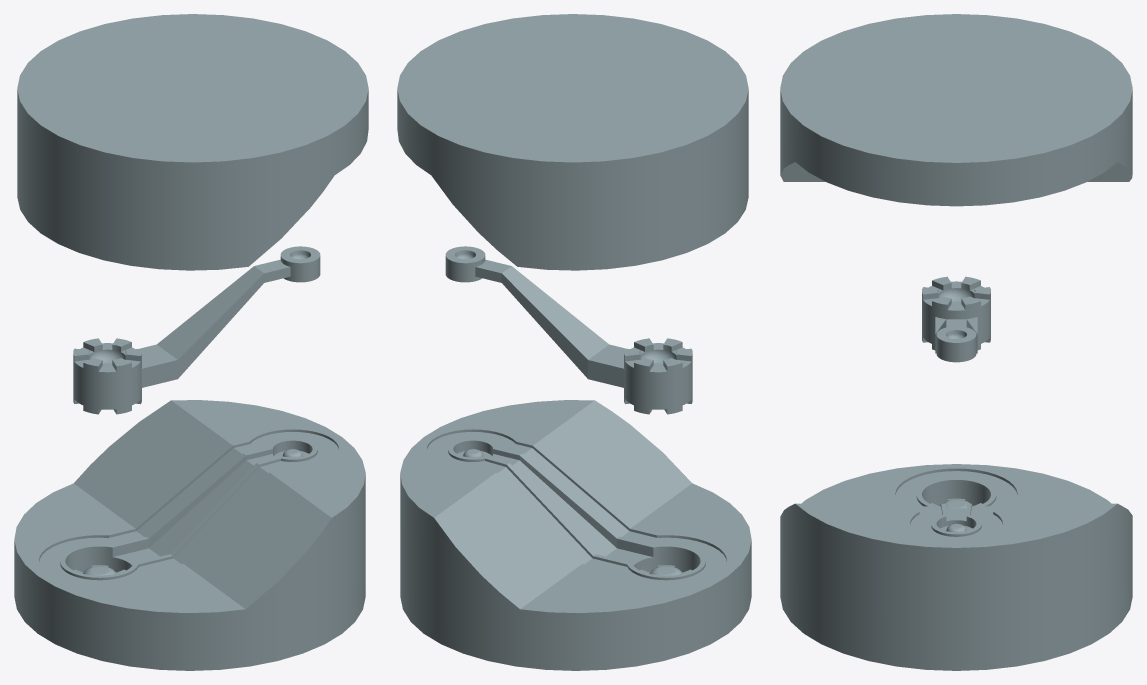
The model's file is forgingDie.glb.
3 renders of one model, left to right at view 1: azimuth 30°, elevation 25°; view 2: azimuth 150°, elevation 25°; view 3: azimuth 270°, elevation 25°, orthographic.
Parts seen in each view (by area): view 1: SOLID (×3); view 2: SOLID (×3); view 3: SOLID (×3).
Part boxes in pixels (box(x1,y1,x2,y2)): SOLID (×3): box(14, 14, 368, 670); SOLID (×3): box(397, 14, 751, 670); SOLID (×3): box(780, 14, 1132, 670).
Size of the model in its own units: 0.669 by 1.06 by 0.6625.
